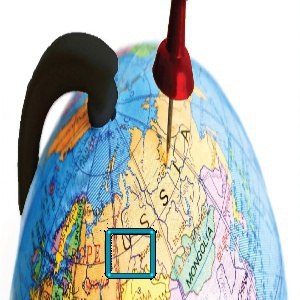square: (104, 227, 158, 280)
